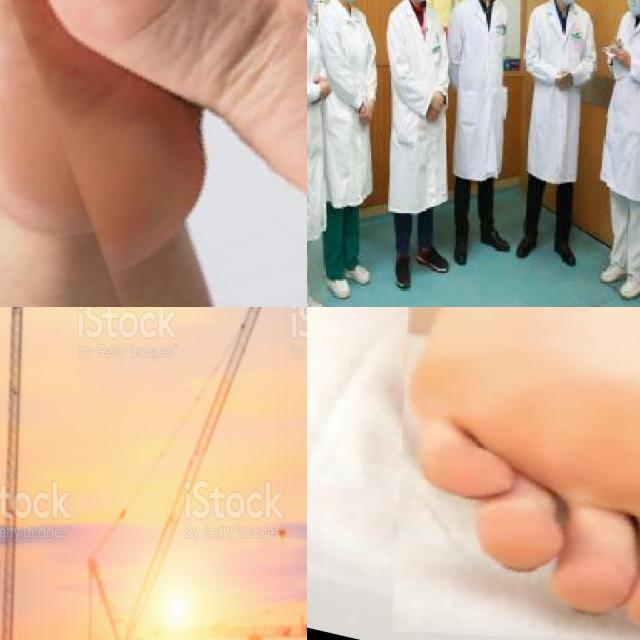Barefoots: (321, 307, 640, 640), (0, 0, 307, 307)
face_mask: (623, 0, 640, 16)
hand_noglove: (360, 99, 376, 124), (614, 47, 631, 70), (559, 67, 573, 91), (316, 78, 331, 100), (433, 90, 445, 112), (426, 104, 439, 122), (610, 36, 622, 53)
person: (526, 0, 595, 274), (388, 0, 452, 290), (322, 0, 379, 302), (456, 0, 516, 267), (605, 0, 640, 302), (307, 0, 334, 307)
shoes: (387, 248, 420, 290), (477, 224, 513, 262), (412, 242, 452, 276), (550, 232, 582, 270), (340, 255, 376, 288), (323, 270, 356, 305), (513, 225, 539, 261), (615, 269, 640, 306), (452, 227, 472, 273), (602, 252, 625, 286), (307, 288, 331, 307)
